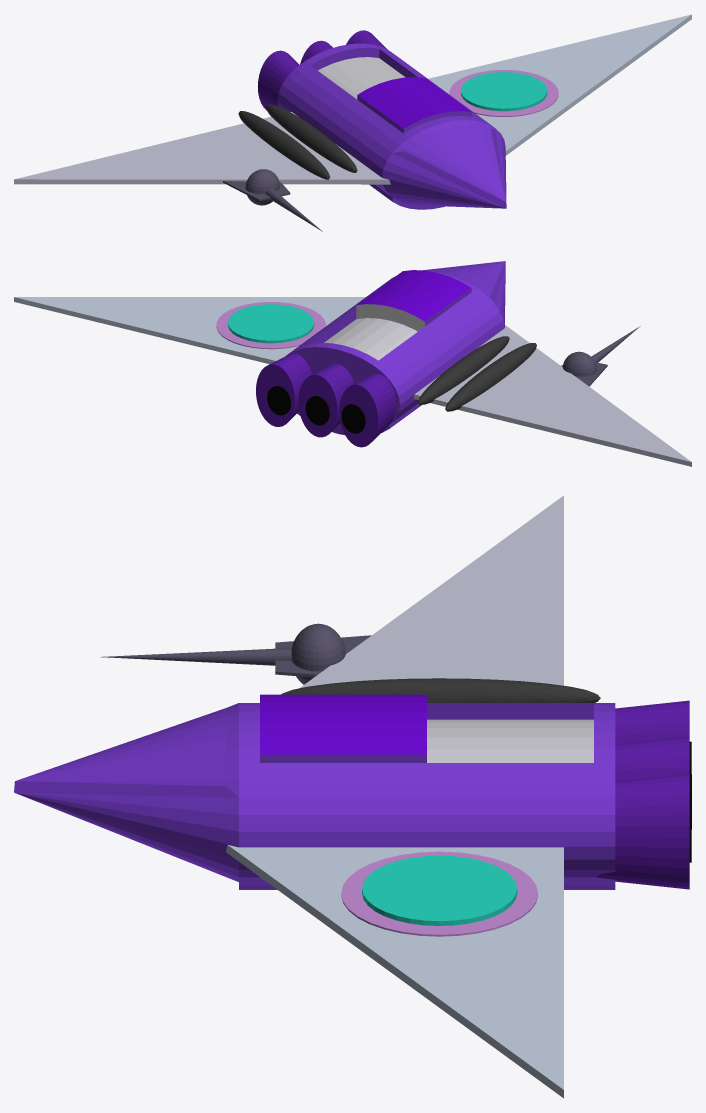
The model's file is drone_purple.fbx.
3 renders of one model, top to bottom at view 1: azimuth 30°, elevation 25°; view 2: azimuth 150°, elevation 25°; view 3: azimuth 270°, elevation 25°, orthographic. The views are drawn at different scales.
Parts seen in each view (by area): view 1: Body, Wings, Rockets, Turret Main Base, Boosters, Cannon, Turret Ship Base; view 2: Wings, Body, Boosters, Rockets, Turret Main Base, Thrusters, Turret Ship Base, Cannon; view 3: Body, Wings, Boosters, Turret Main Base, Rockets, Cannon, Turret Ship Base.
Boxes of the visible parts, x1,y1,x2,y2 form: Body: (277, 43, 506, 209); Wings: (14, 14, 691, 184); Rockets: (238, 104, 357, 179); Turret Main Base: (461, 72, 547, 111); Boosters: (258, 30, 387, 110); Cannon: (223, 169, 322, 231); Turret Ship Base: (449, 70, 558, 116); Wings: (14, 297, 691, 466); Body: (286, 261, 505, 434); Boosters: (256, 353, 396, 447); Rockets: (418, 336, 536, 411); Turret Main Base: (228, 304, 314, 343); Thrusters: (267, 386, 365, 433); Turret Ship Base: (216, 302, 325, 349); Cannon: (561, 326, 640, 386); Body: (14, 694, 615, 889); Wings: (226, 495, 563, 1098); Boosters: (596, 700, 689, 889); Turret Main Base: (362, 855, 517, 925); Rockets: (281, 678, 600, 702); Cannon: (101, 623, 371, 684); Turret Ship Base: (341, 851, 537, 936).
Bounding box in the file's own units: 1249 × 157 × 603.
